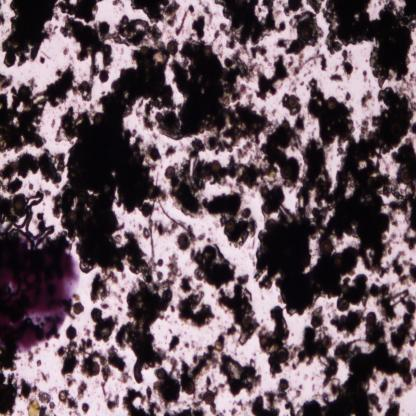Air bubble: (5, 192, 43, 237), (21, 224, 56, 247), (334, 252, 345, 270)
Background material: (54, 57, 164, 279), (258, 185, 363, 316), (155, 35, 229, 141), (321, 0, 415, 82), (333, 138, 387, 276), (322, 340, 411, 416), (102, 41, 175, 133), (115, 278, 175, 382), (0, 72, 74, 153), (0, 0, 60, 68), (369, 85, 416, 159), (308, 77, 357, 146), (262, 113, 306, 188), (219, 101, 275, 154), (255, 304, 294, 380), (214, 0, 277, 47), (218, 274, 258, 347), (297, 140, 334, 216), (0, 147, 61, 193), (200, 156, 267, 197), (220, 48, 261, 105), (59, 15, 104, 62), (276, 10, 323, 54), (191, 242, 235, 288), (219, 352, 262, 396), (254, 53, 293, 100), (171, 164, 204, 218), (367, 281, 412, 318), (293, 326, 329, 369), (176, 289, 214, 329), (200, 191, 243, 226), (389, 140, 416, 195), (130, 0, 179, 29), (21, 378, 57, 416), (182, 345, 216, 385), (385, 191, 416, 232), (123, 384, 160, 416), (152, 370, 182, 408), (90, 268, 120, 306), (72, 61, 98, 104), (388, 311, 416, 350), (80, 350, 114, 381), (57, 0, 103, 22), (391, 248, 416, 288), (226, 218, 258, 249), (0, 369, 21, 416), (330, 308, 364, 335), (320, 355, 342, 395), (293, 51, 328, 76), (57, 341, 80, 378), (93, 312, 118, 344), (134, 96, 156, 132), (238, 136, 265, 163), (251, 390, 279, 416), (350, 272, 370, 308), (214, 21, 237, 49), (183, 136, 206, 164), (163, 251, 180, 288), (107, 344, 129, 372), (381, 231, 402, 259), (0, 344, 20, 372), (281, 89, 301, 117), (394, 70, 416, 94), (276, 389, 295, 416), (164, 404, 206, 416), (197, 0, 214, 27), (192, 16, 209, 42), (173, 9, 188, 37), (248, 45, 271, 63), (186, 224, 205, 245), (79, 328, 93, 356), (358, 87, 375, 110), (296, 401, 322, 416), (341, 49, 355, 76), (180, 273, 195, 295), (385, 396, 401, 416), (105, 392, 120, 413), (232, 398, 252, 413), (369, 392, 382, 414), (360, 119, 374, 139), (394, 384, 414, 398), (164, 141, 179, 159), (305, 0, 324, 14), (68, 396, 81, 416), (167, 335, 182, 352), (402, 234, 416, 252), (76, 380, 88, 401), (214, 381, 227, 398), (292, 384, 304, 401), (314, 393, 330, 405), (192, 392, 204, 408), (156, 260, 165, 280), (378, 376, 388, 394), (112, 0, 128, 11), (291, 79, 304, 92), (185, 340, 199, 351), (39, 49, 49, 64), (276, 38, 288, 50), (276, 21, 288, 33), (65, 376, 77, 388), (312, 306, 325, 317), (330, 72, 343, 83), (186, 1, 196, 15), (118, 372, 132, 382), (406, 348, 416, 361), (100, 380, 108, 396), (209, 402, 218, 416), (28, 350, 34, 370), (204, 376, 211, 390), (411, 367, 416, 386), (378, 0, 396, 5), (0, 10, 5, 28), (228, 407, 238, 416), (48, 386, 58, 395), (344, 91, 352, 102), (100, 302, 110, 310), (411, 120, 416, 135), (216, 409, 226, 416), (363, 70, 368, 83), (411, 51, 416, 64), (389, 377, 397, 385), (211, 372, 216, 384), (95, 402, 101, 412), (334, 64, 340, 73), (117, 304, 124, 311), (54, 332, 61, 339), (34, 348, 42, 354), (304, 373, 309, 382), (312, 383, 316, 392), (44, 343, 50, 348), (310, 376, 314, 381)
Diatom: (13, 194, 26, 212), (176, 232, 189, 248), (183, 380, 196, 396), (320, 239, 333, 255), (19, 85, 32, 100), (277, 348, 289, 364), (166, 40, 179, 54), (400, 168, 412, 183), (65, 326, 77, 340), (98, 20, 110, 34), (365, 311, 377, 325), (281, 164, 292, 179), (204, 390, 215, 405), (288, 0, 301, 12), (321, 335, 332, 349), (266, 218, 276, 233), (66, 211, 78, 223), (93, 112, 104, 125), (72, 303, 85, 314), (165, 165, 175, 179), (92, 308, 102, 322), (90, 362, 100, 376), (302, 26, 312, 40), (327, 96, 337, 110), (310, 316, 321, 328), (100, 70, 110, 83), (9, 161, 19, 174), (225, 220, 235, 233), (242, 315, 251, 329), (405, 302, 416, 313), (102, 55, 112, 67), (162, 289, 172, 301), (209, 137, 219, 149), (220, 68, 230, 80), (56, 160, 66, 172), (340, 299, 350, 311), (262, 276, 272, 288), (102, 43, 112, 54), (58, 390, 68, 401), (293, 214, 303, 225), (211, 160, 220, 172), (0, 138, 9, 150), (203, 44, 212, 56), (288, 95, 297, 107), (403, 372, 412, 384), (378, 75, 386, 88), (241, 208, 251, 218), (279, 379, 289, 389), (157, 368, 166, 379), (190, 57, 199, 68), (141, 45, 150, 56), (135, 291, 144, 302), (264, 203, 273, 214), (91, 4, 99, 15), (261, 186, 269, 197), (143, 226, 150, 238), (260, 338, 269, 347), (341, 285, 350, 294), (41, 371, 47, 383), (122, 15, 129, 25), (82, 403, 89, 412), (123, 112, 132, 118), (215, 342, 221, 351), (311, 88, 317, 97), (116, 235, 121, 245), (403, 17, 409, 25), (253, 123, 259, 130), (36, 360, 42, 366), (49, 402, 55, 408)
Pen: (0, 235, 78, 357)
